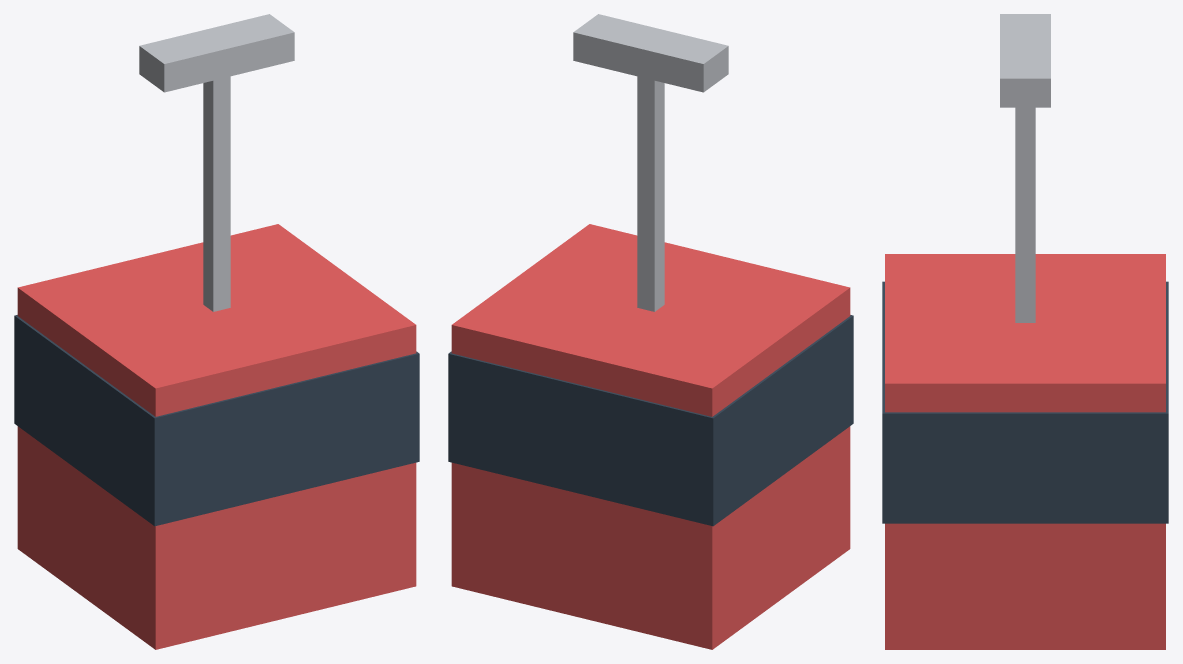
Rendered from gondola.glb.
The picture shows the model from 3 angles, left to right: view 1: azimuth 30°, elevation 25°; view 2: azimuth 150°, elevation 25°; view 3: azimuth 270°, elevation 25°; orthographic projection.
Visible parts, largest first — view 1: cabin; view 2: cabin; view 3: cabin.
Part boxes in pixels (<box>): cabin: <box>14,14,419,649</box>; cabin: <box>448,14,853,649</box>; cabin: <box>882,14,1168,649</box>.
Size of the model in its own units: 2.44 by 4.65 by 2.24.
